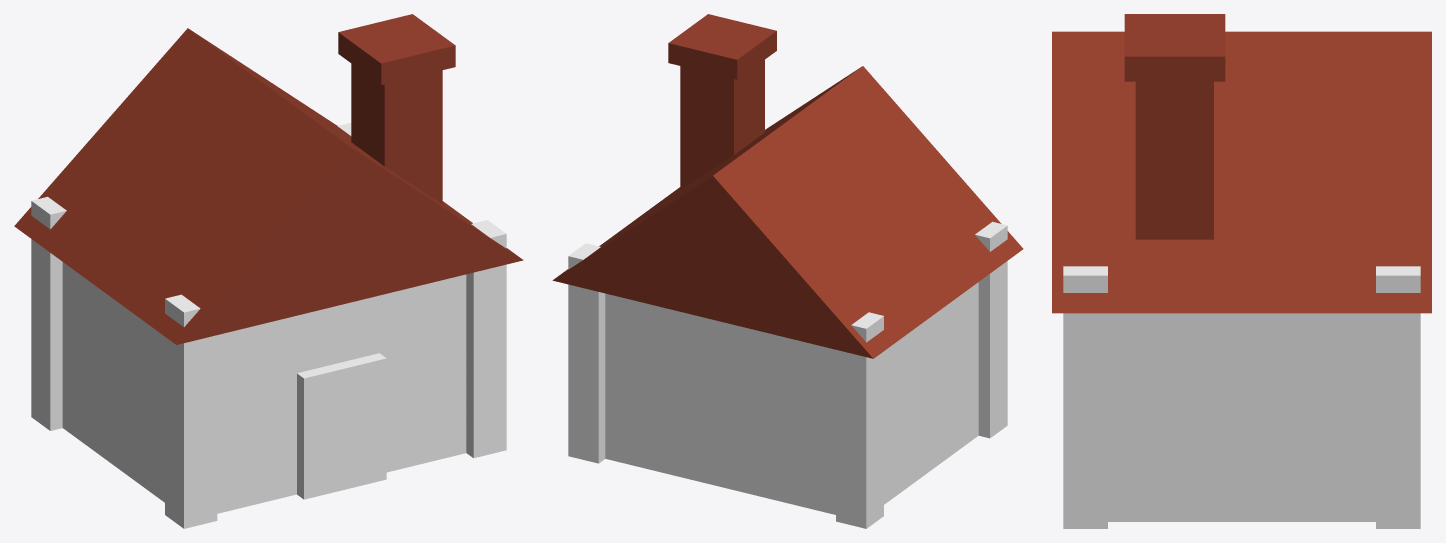
File: settlement.glb
The picture shows the model from 3 angles, left to right: view 1: azimuth 30°, elevation 25°; view 2: azimuth 150°, elevation 25°; view 3: azimuth 270°, elevation 25°; orthographic projection. The views are drawn at different scales.
Parts seen in each view (by area): view 1: SettlementRoof, SettlementBody; view 2: SettlementRoof, SettlementBody; view 3: SettlementRoof, SettlementBody.
Boxes of the visible parts, x1=… form: SettlementRoof: x1=14, y1=14, x2=523, y2=344; SettlementBody: x1=31, y1=123, x2=506, y2=528; SettlementRoof: x1=552, y1=14, x2=1023, y2=358; SettlementBody: x1=568, y1=221, x2=1007, y2=528; SettlementRoof: x1=1052, y1=14, x2=1431, y2=313; SettlementBody: x1=1063, y1=266, x2=1420, y2=528.
Size of the model in its own units: 0.84 by 0.905 by 0.68.
